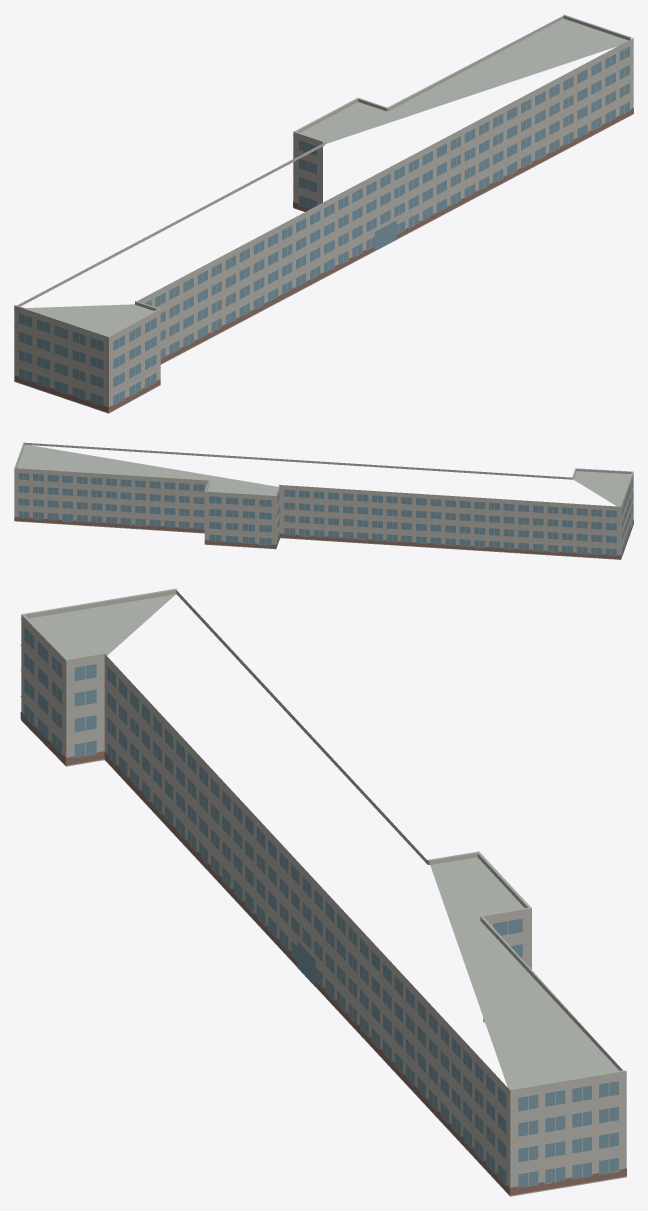
The model's file is public-d1a182c0-8a41-49c9-9c5e-5d77fc30128d.glb.
3 renders of one model, top to bottom at view 1: azimuth 30°, elevation 25°; view 2: azimuth 150°, elevation 25°; view 3: azimuth 270°, elevation 25°, orthographic. The views are drawn at different scales.
Visible parts, largest first — view 1: public-d1a182c0-8a41-49c9-9c5e-5d77fc30128d; view 2: public-d1a182c0-8a41-49c9-9c5e-5d77fc30128d; view 3: public-d1a182c0-8a41-49c9-9c5e-5d77fc30128d.
Boxes of the visible parts, x1,y1,x2,y2 form: public-d1a182c0-8a41-49c9-9c5e-5d77fc30128d: (14, 14, 633, 413); public-d1a182c0-8a41-49c9-9c5e-5d77fc30128d: (14, 442, 633, 559); public-d1a182c0-8a41-49c9-9c5e-5d77fc30128d: (20, 588, 626, 1196).
Size of the model in its own units: 124 by 12.2 by 63.06.
